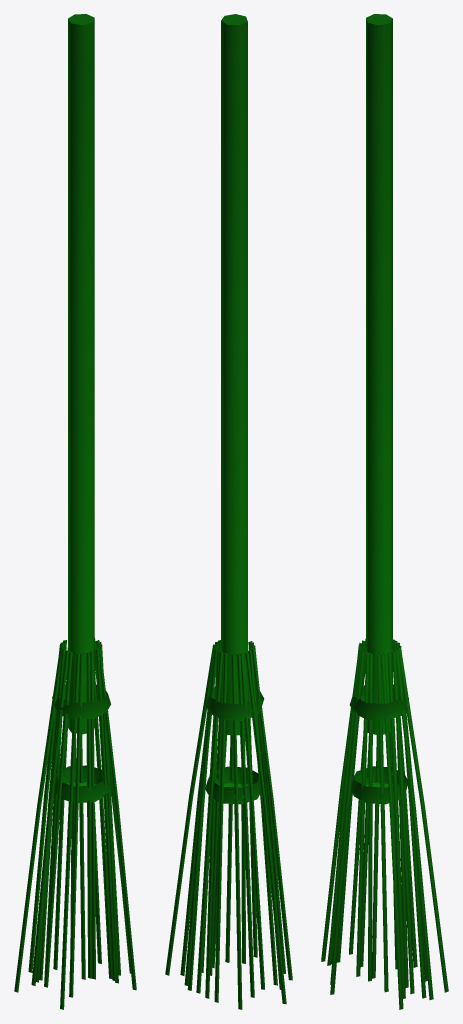
The model's file is hand_broom.glb.
The picture shows the model from 3 angles, left to right: view 1: azimuth 30°, elevation 25°; view 2: azimuth 150°, elevation 25°; view 3: azimuth 330°, elevation 25°; orthographic projection.
Visible parts, largest first — view 1: hand_broom; view 2: hand_broom; view 3: hand_broom.
Boxes of the visible parts, box(x1,y1,x2,y2) form: hand_broom: box(14, 14, 136, 1009); hand_broom: box(165, 14, 292, 1009); hand_broom: box(321, 14, 448, 1009).
Size of what is drawn, in the model's own units: 0.1812 by 1.4 by 0.112.
